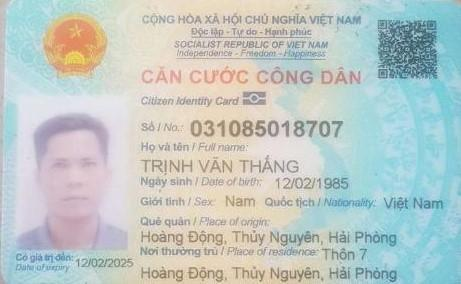ID: (187, 117, 346, 140)
birth: (274, 175, 354, 193)
name: (139, 156, 313, 176)
place: (137, 228, 400, 247)
residence: (137, 263, 400, 284), (319, 247, 370, 262)
